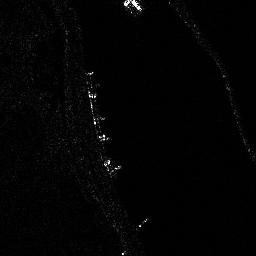ship: (124, 1, 146, 11)
